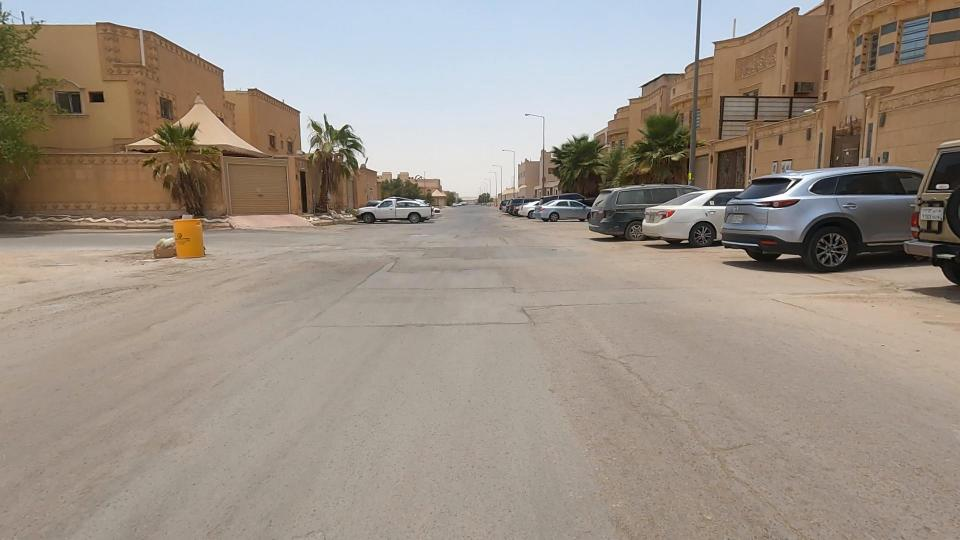GARBAGE: (125, 220, 191, 278)
